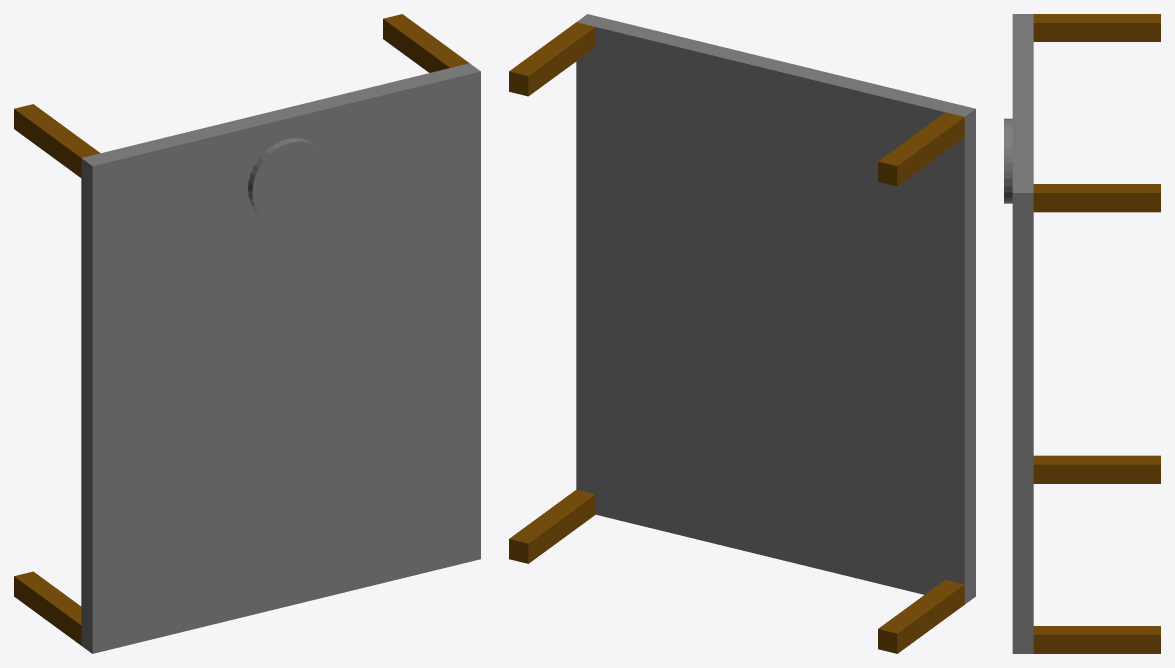
The model's file is table.dae.
3 renders of one model, left to right at view 1: azimuth 30°, elevation 25°; view 2: azimuth 150°, elevation 25°; view 3: azimuth 270°, elevation 25°, orthographic. The views are drawn at different scales.
Parts seen in each view (by area): view 1: node; view 2: node; view 3: node.
Part boxes in pixels (x1,y1,x2,y2): node: (14,14,480,653); node: (509,14,975,653); node: (1004,14,1160,653).
Size of the model in its own units: 1 by 1.2 by 0.37.
